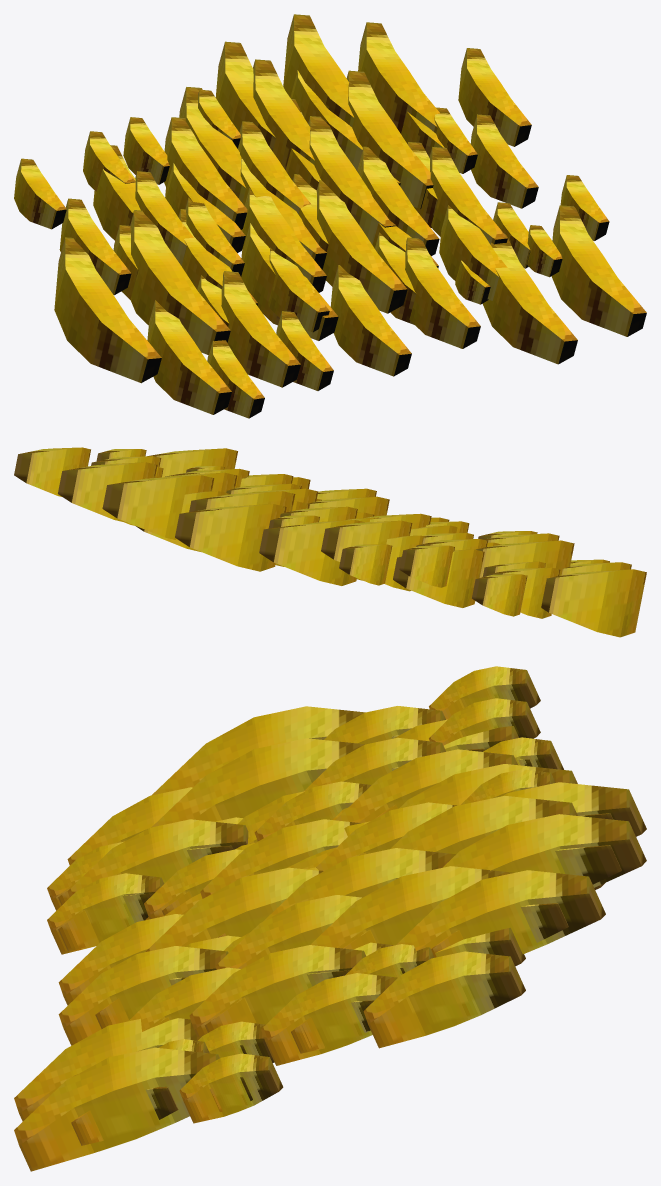
The model's file is Fruta8.fbx.
3 renders of one model, top to bottom at view 1: azimuth 30°, elevation 25°; view 2: azimuth 150°, elevation 25°; view 3: azimuth 270°, elevation 25°, orthographic. The views are drawn at different scales.
Parts seen in each view (by area): view 1: Cube.065; view 2: Cube.065; view 3: Cube.065.
Part boxes in pixels (x1,y1,x2,y2): Cube.065: [14, 14, 646, 418]; Cube.065: [14, 447, 646, 637]; Cube.065: [14, 666, 646, 1171].
Bounding box in the file's own units: 64.92 × 25.09 × 50.99.
Materials: 1 (1 with a texture image).
